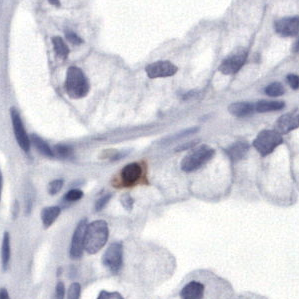Lymphocyte: (116, 161, 151, 187)
